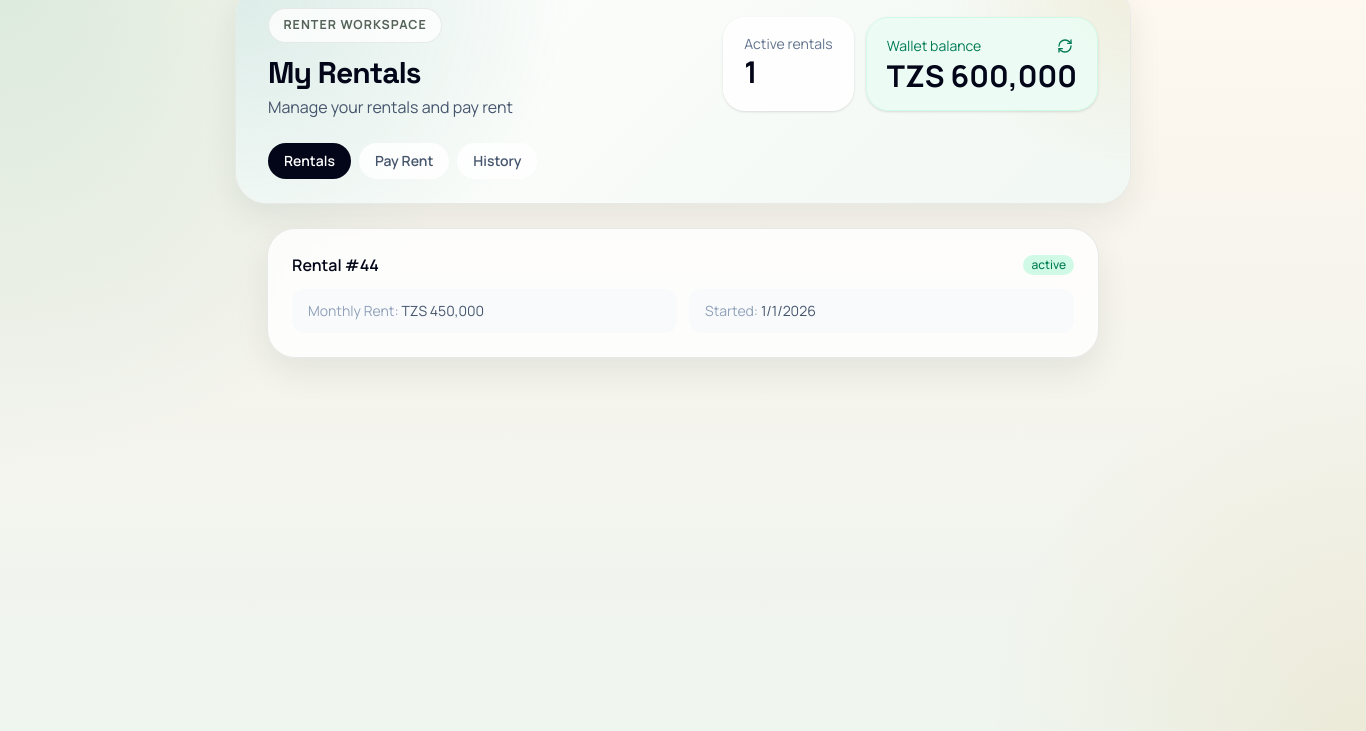
Test: MyRentals payment UX › refreshes rental data after successful payment confirmation
Click the button "pay rent" at coordinates (404, 161), box [359, 143, 449, 179]
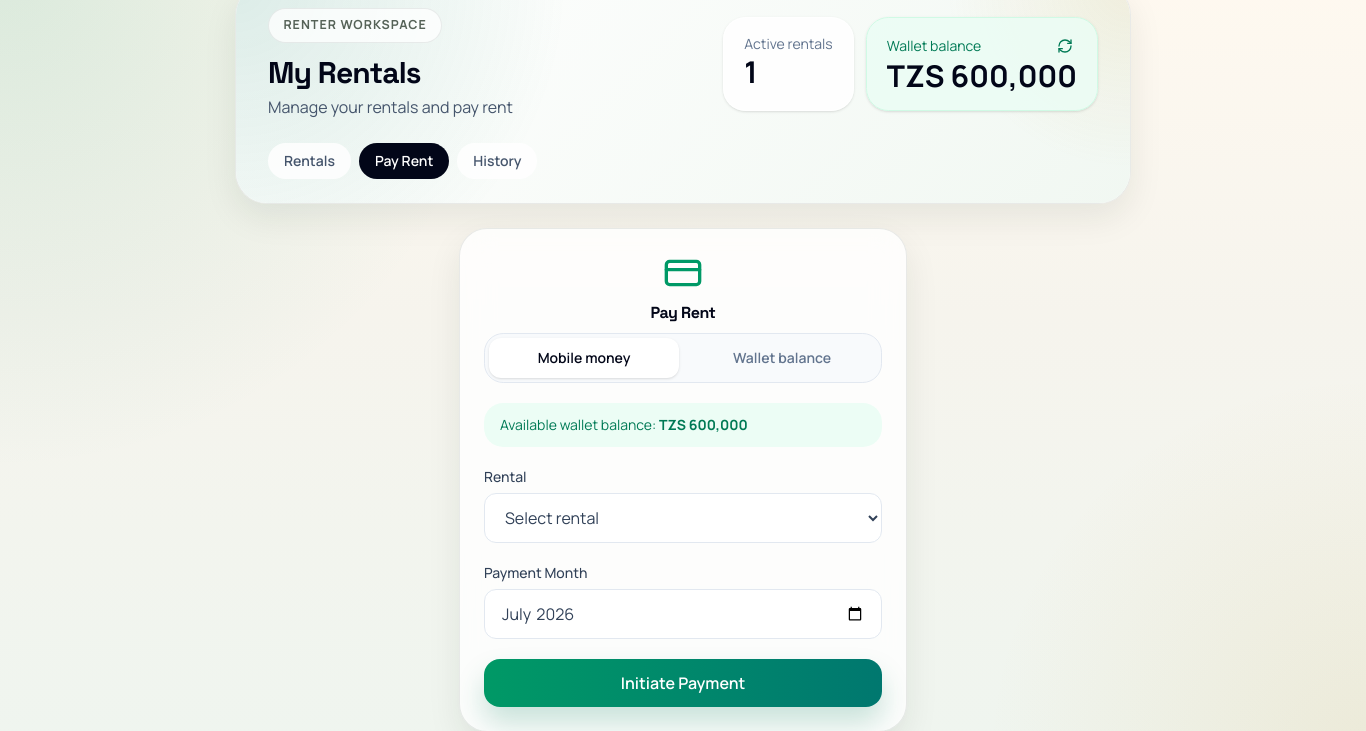
Select "Rental #44 - TZS 450,000/mo" in the dropdown at coordinates (683, 518), box [484, 493, 882, 543]
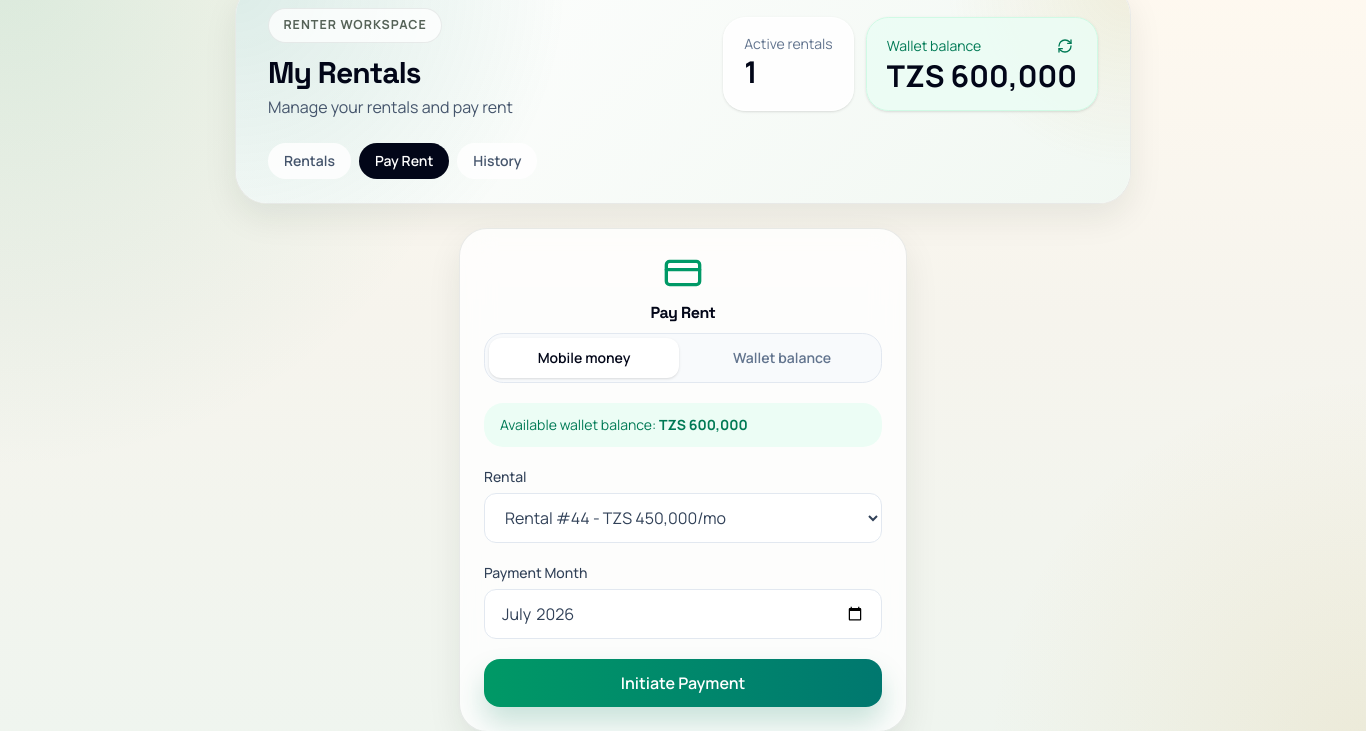
Click the button "Initiate Payment" at coordinates (683, 683), box [484, 659, 882, 707]
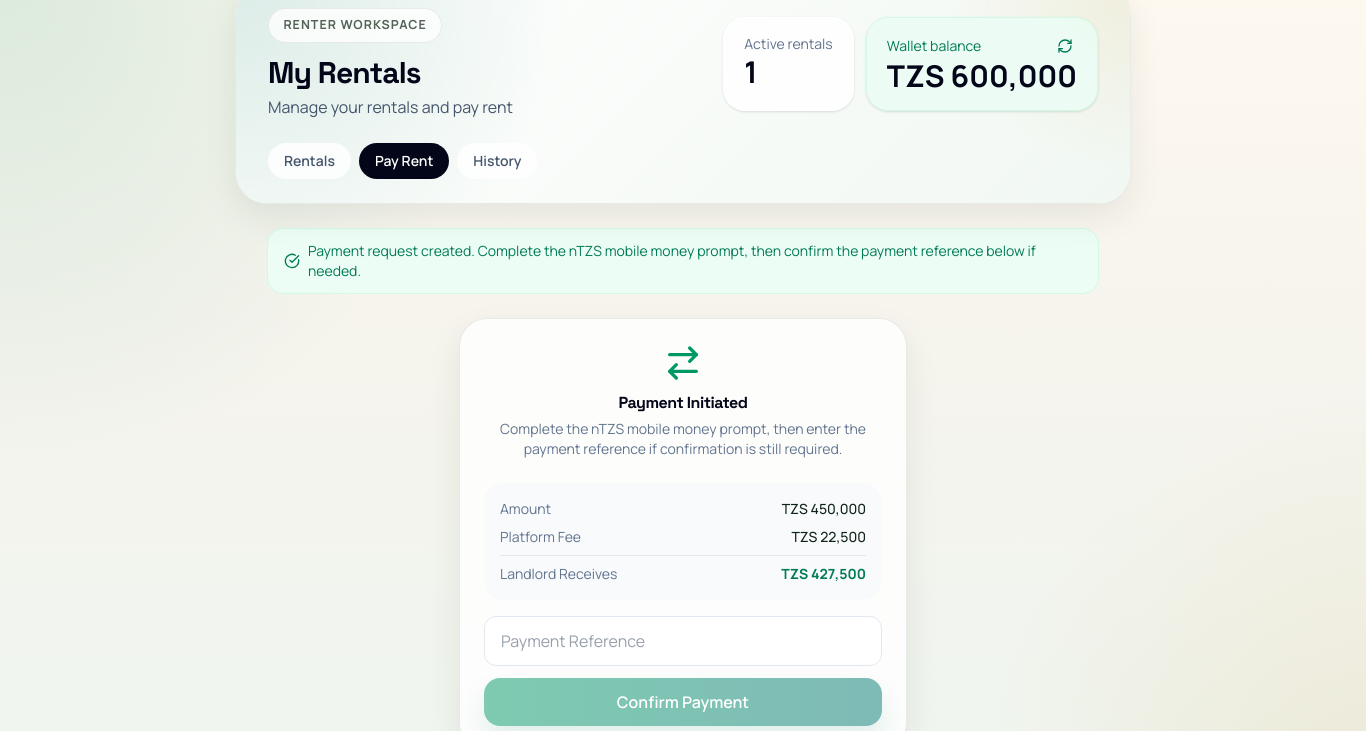
expect the heading "Payment Initiated" is shown: met, box [618, 392, 748, 413]
Type "abc123" into the field with placeholder "Payment Reference" at coordinates (683, 641), box [484, 616, 882, 666]
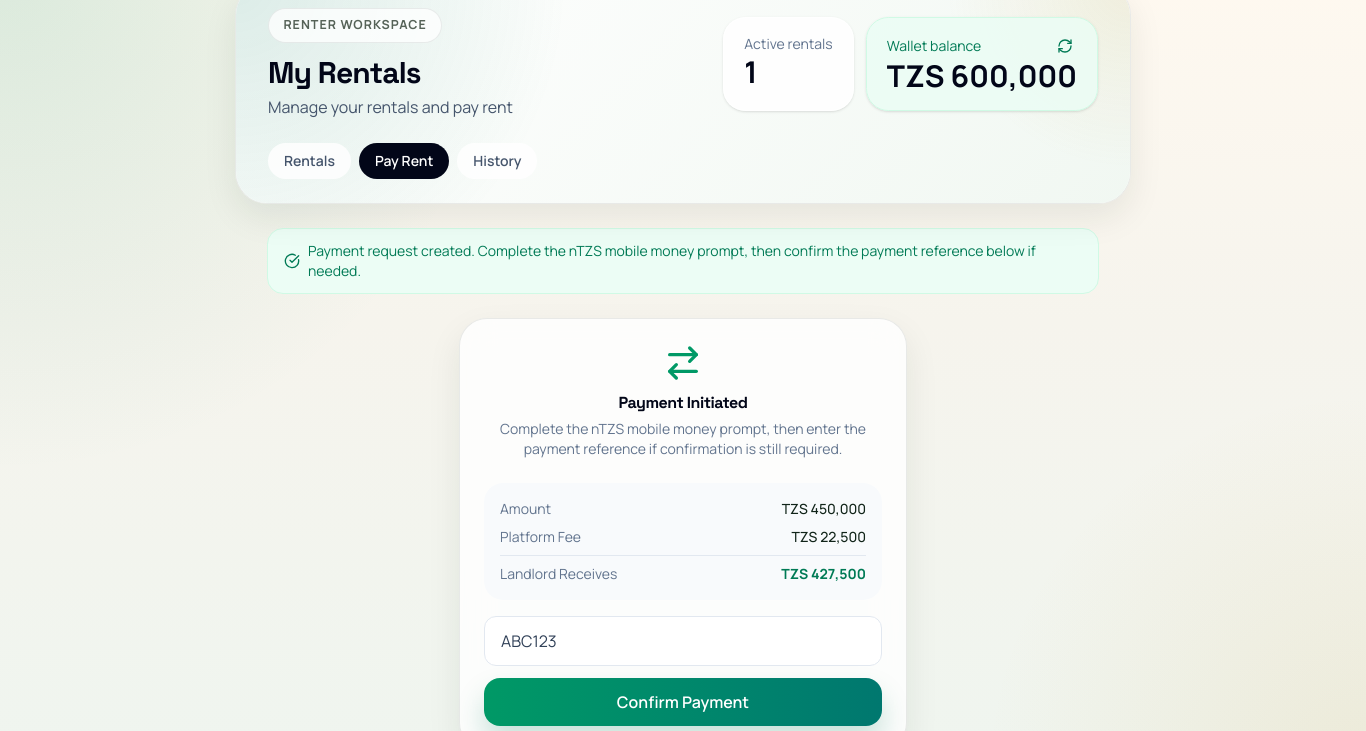
Click the button "Confirm Payment" at coordinates (683, 702), box [484, 678, 882, 726]
(page scrolled)
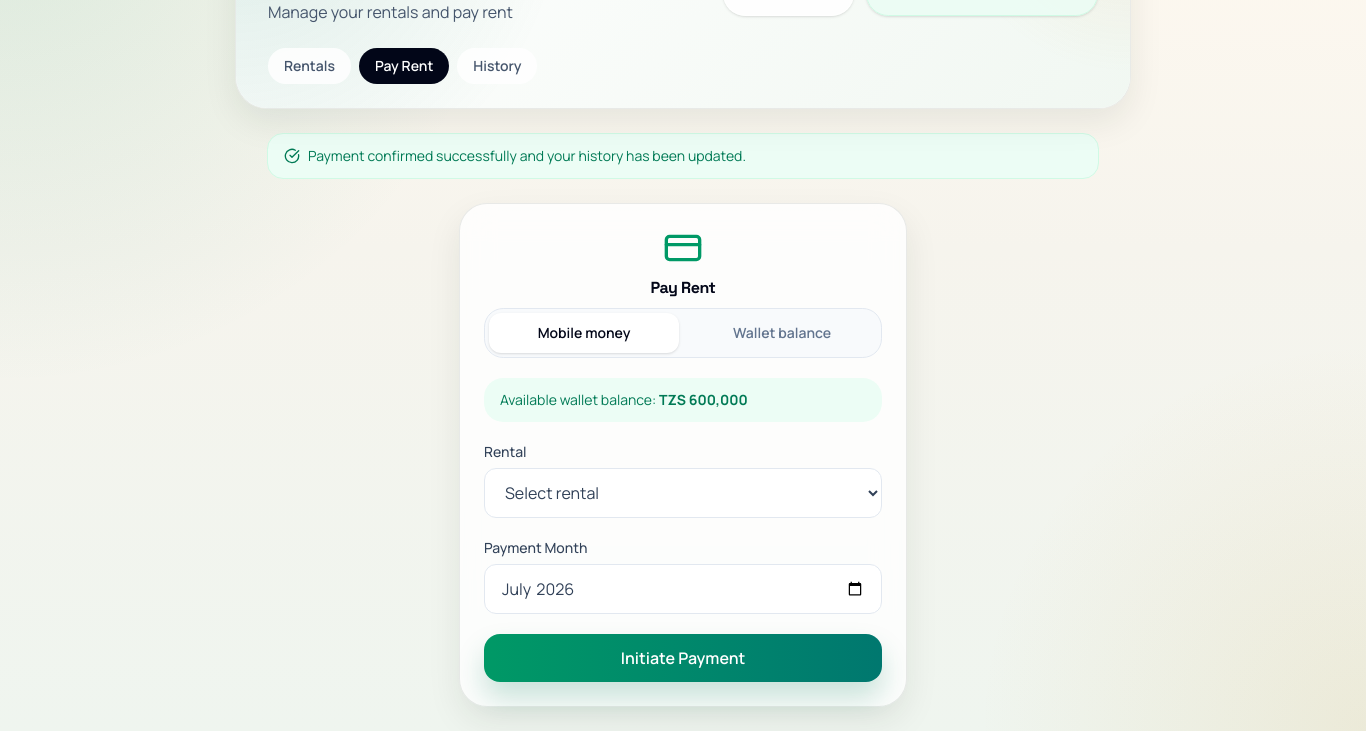
expect the text "Payment confirmed successfully and your history has been updated." is shown: met, box [308, 146, 746, 166]
expect the button "Initiate Payment" is shown: met, box [484, 634, 882, 682]
